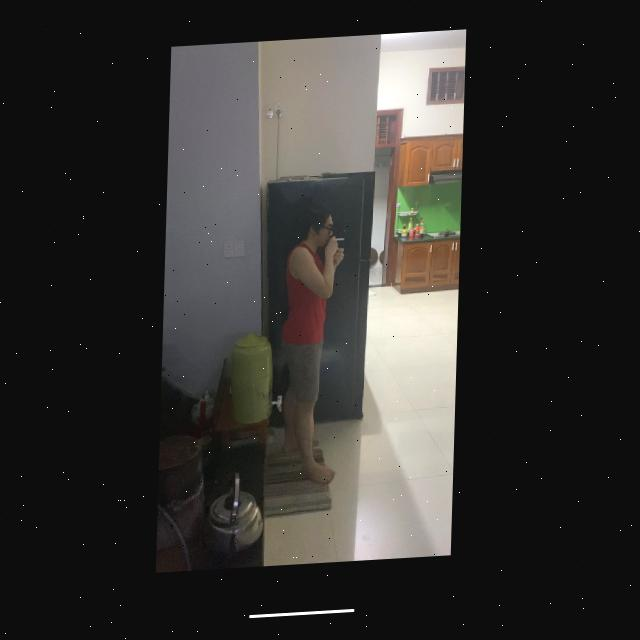cigarette: (336, 243, 345, 245)
